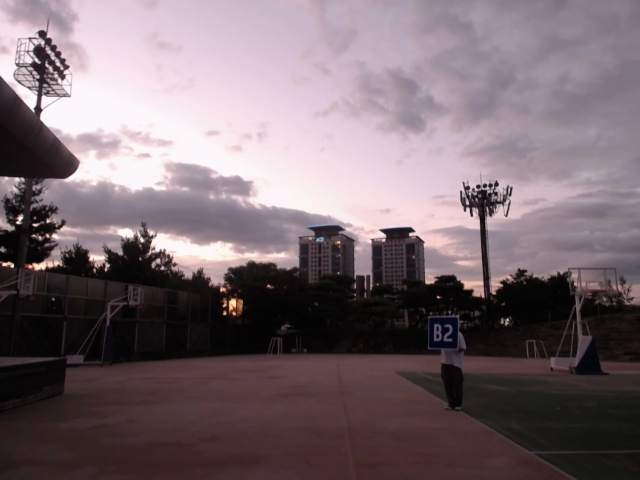delivery_b2: (427, 315, 461, 350)
